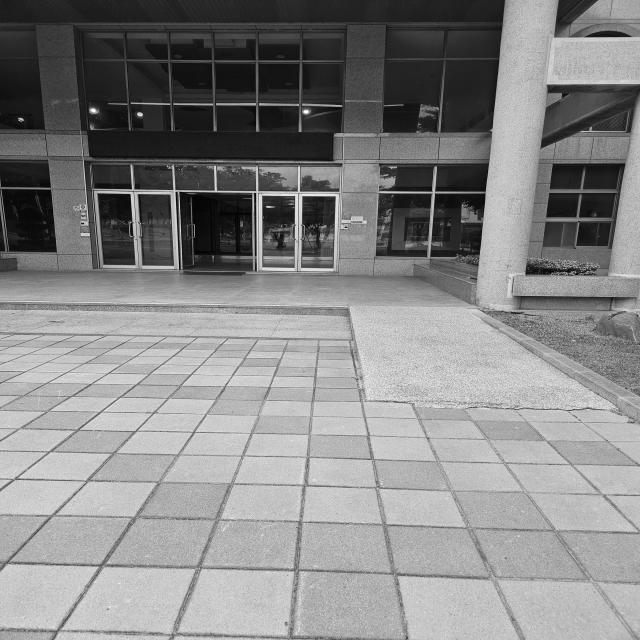Road-Object: (0, 271, 640, 640)
floor: (0, 301, 349, 317)
